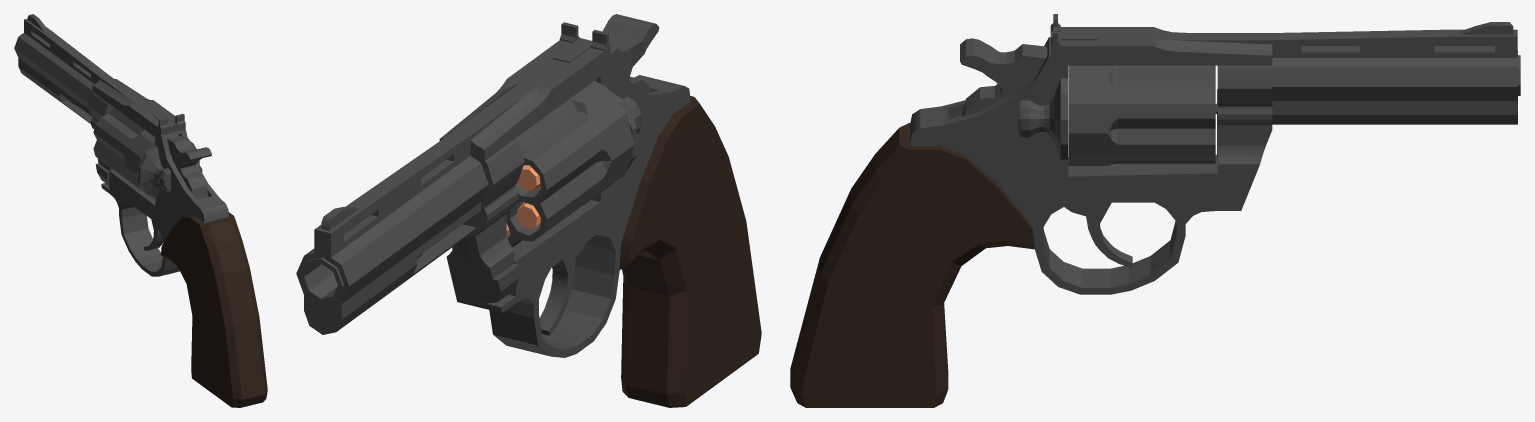
File: Revolver-AnsEmKwuu7.glb
3 renders of one model, left to right at view 1: azimuth 30°, elevation 25°; view 2: azimuth 150°, elevation 25°; view 3: azimuth 270°, elevation 25°, orthographic. The views are drawn at different scales.
Visible parts, largest first — view 1: Grip, Frame, Magnum_Barrel, Revolving_Cylinder, Rear_Sights, Front_Sights, Hammer, Back_Plate_Right, Cylinder_Arm, Trigger; view 2: Grip, Frame, Magnum_Barrel, Revolving_Cylinder, Rear_Sights, Front_Sights, Cylinder_Arm, Hammer, Trigger, Back_Plate_Right, Bullet5, Bullet6; view 3: Grip, Frame, Magnum_Barrel, Revolving_Cylinder, Front_Sights, Rear_Sights, Hammer, Back_Plate_Left, Trigger.
Boxes of the visible parts, x1,y1,x2,y2 form: Grip: (161, 212, 267, 407); Frame: (87, 85, 228, 276); Magnum_Barrel: (14, 33, 93, 123); Revolving_Cylinder: (93, 107, 155, 198); Rear_Sights: (92, 75, 185, 135); Front_Sights: (24, 14, 108, 83); Hammer: (167, 135, 211, 199); Back_Plate_Right: (138, 145, 170, 196); Cylinder_Arm: (91, 118, 112, 185); Trigger: (143, 219, 162, 250); Grip: (619, 96, 761, 407); Frame: (439, 57, 690, 357); Magnum_Barrel: (296, 156, 488, 334); Revolving_Cylinder: (506, 80, 634, 247); Rear_Sights: (440, 22, 610, 149); Front_Sights: (314, 131, 470, 257); Cylinder_Arm: (463, 187, 519, 303); Hammer: (602, 14, 659, 93); Trigger: (539, 242, 585, 335); Back_Plate_Right: (609, 90, 641, 177); Bullet5: (516, 202, 540, 228); Bullet6: (517, 165, 540, 190); Grip: (790, 123, 1034, 407); Frame: (909, 37, 1272, 294); Magnum_Barrel: (1272, 50, 1520, 124); Revolving_Cylinder: (1068, 65, 1215, 165); Front_Sights: (1272, 22, 1517, 57); Rear_Sights: (1050, 14, 1272, 56); Hammer: (960, 38, 1047, 116); Back_Plate_Left: (1018, 78, 1068, 159); Trigger: (1064, 202, 1132, 267).
Bounding box in the file's own units: 0.0456 × 0.1627 × 0.2906.
2 materials, 2 textured.
